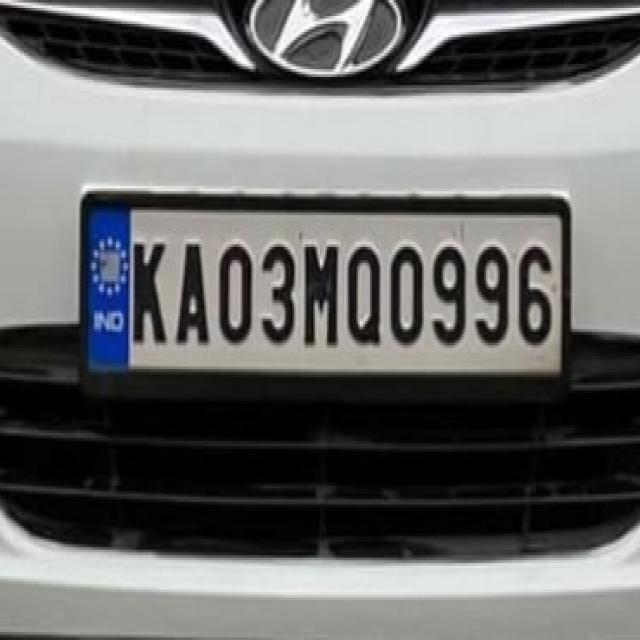0: (213, 239, 258, 353), (388, 239, 428, 354)
3: (256, 240, 300, 354)
6: (516, 239, 556, 354)
9: (472, 244, 510, 354), (432, 241, 467, 350)
A: (171, 235, 214, 354)
K: (128, 235, 172, 353)
M: (300, 239, 344, 356)
Q: (343, 240, 386, 360)
